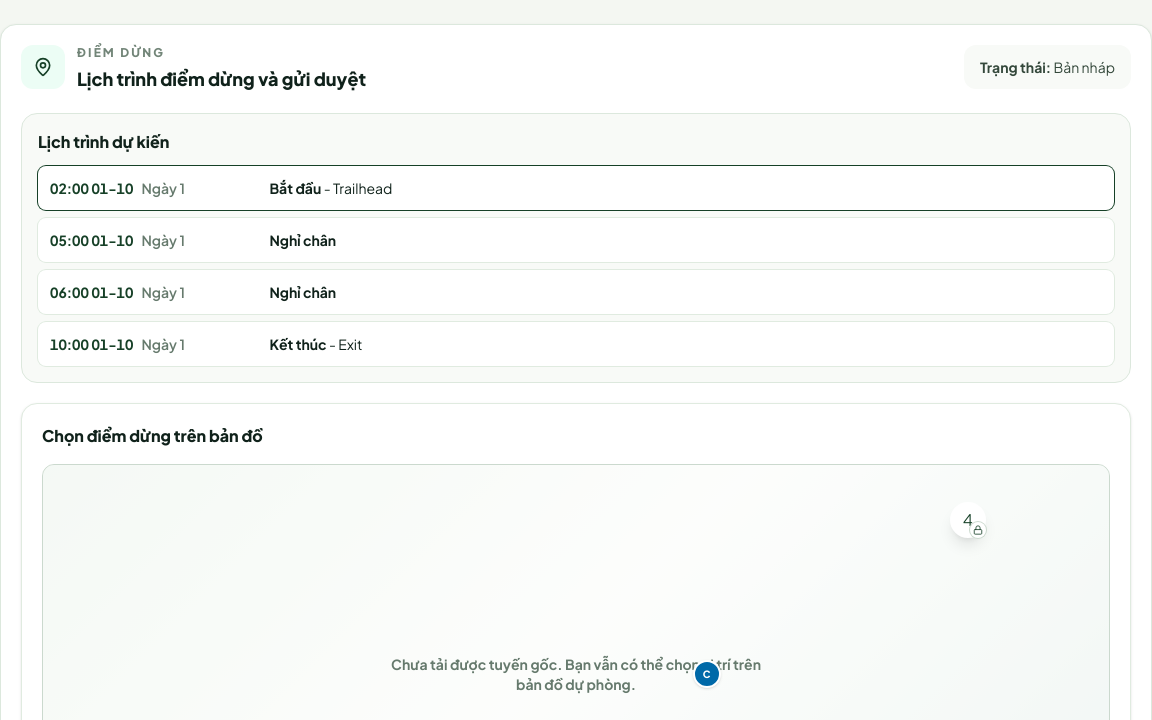
Test: ConfigureTripWaypointsPanel › shows the next-stop time error immediately when choosing a time, before Save
Click the button with aria-label "Mở chỉnh sửa điểm dừng 2". click: [92, 240]
box: x1=38 y1=218 x2=1114 y2=262
(page scrolled)
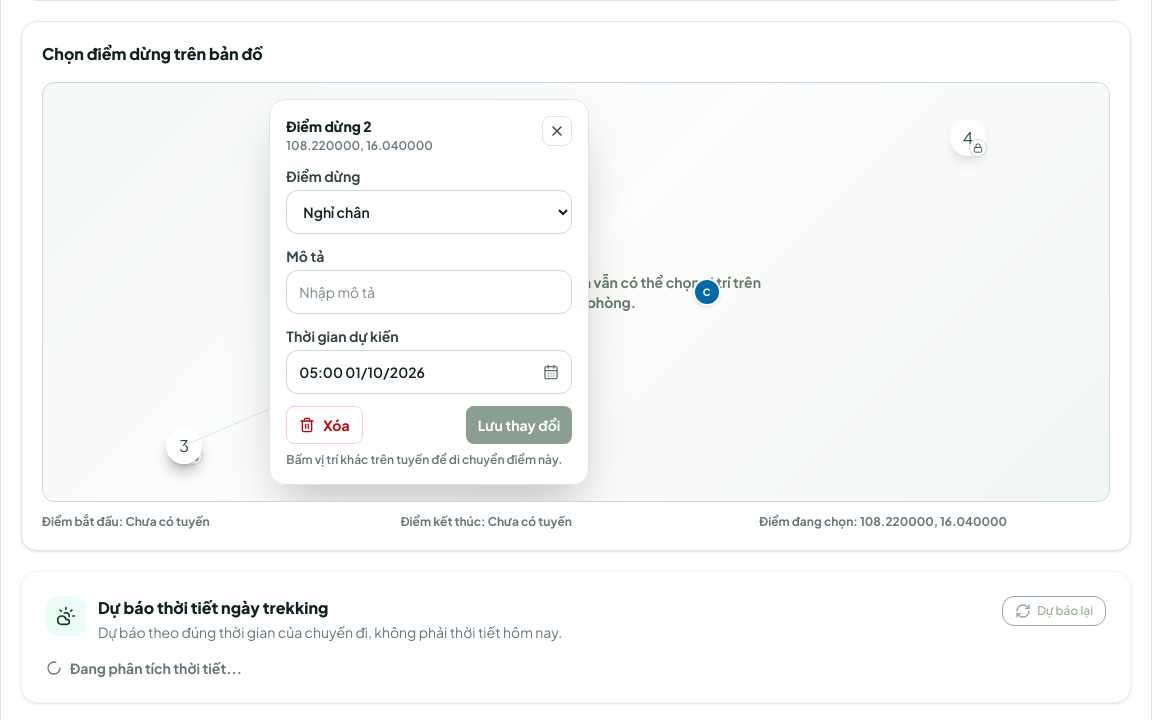
Replace the text in the field named "Thời gian điểm dừng 2" with "2026-10-01T07:00". click: [429, 360]
box: x1=286 y1=326 x2=572 y2=394
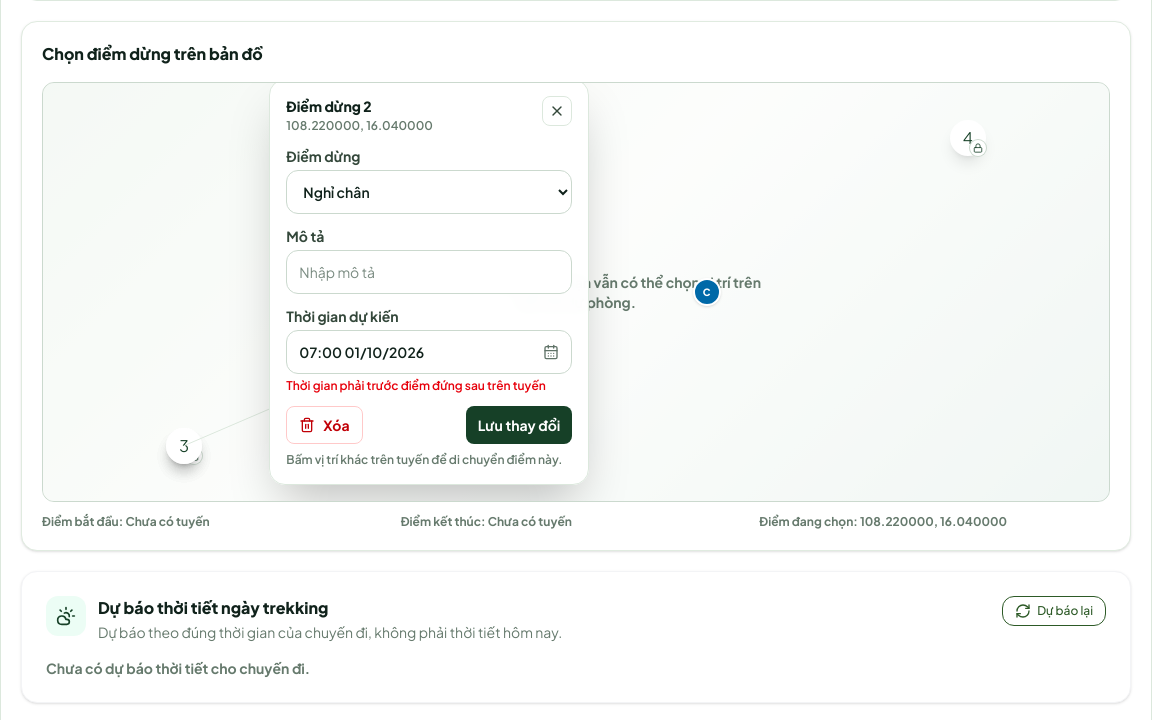
Check: the text "Thời gian phải trước điểm đứng sau trên tuyến" is shown, box x1=286 y1=378 x2=572 y2=394
Replace the text in the field named "Thời gian điểm dừng 2" with "2026-10-01T05:30". click: [429, 350]
box: x1=286 y1=306 x2=572 y2=394
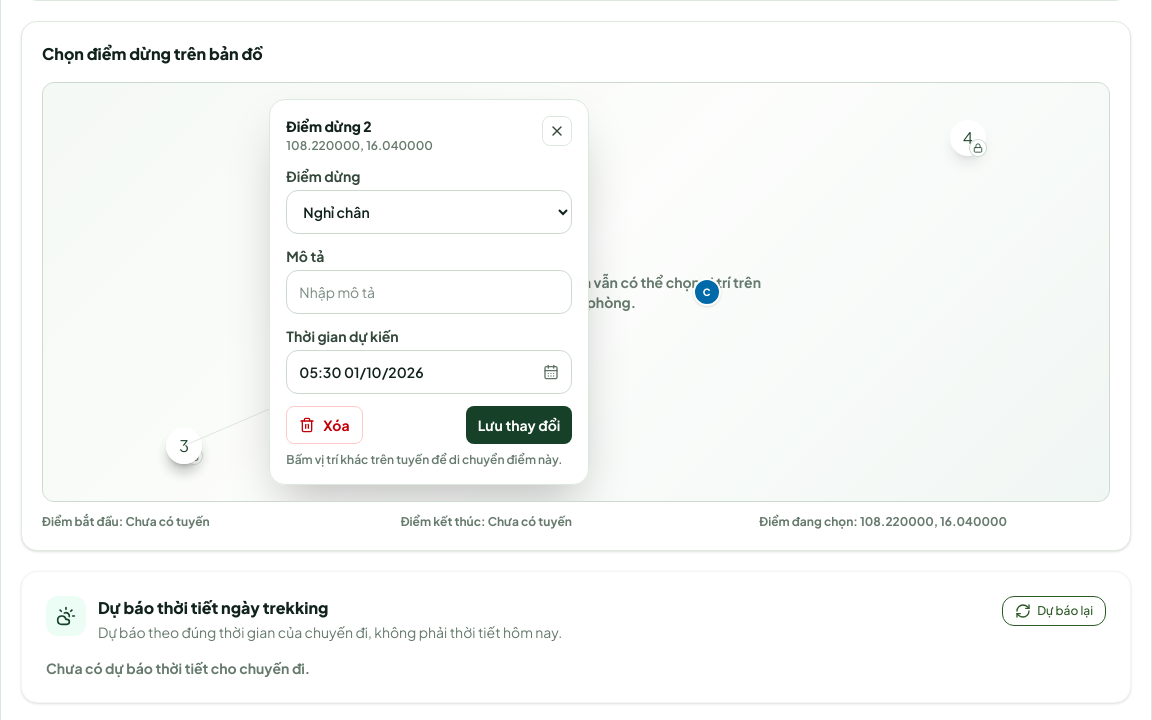
Check: the text "Thời gian phải trước điểm đứng sau trên tuyến" is gone
